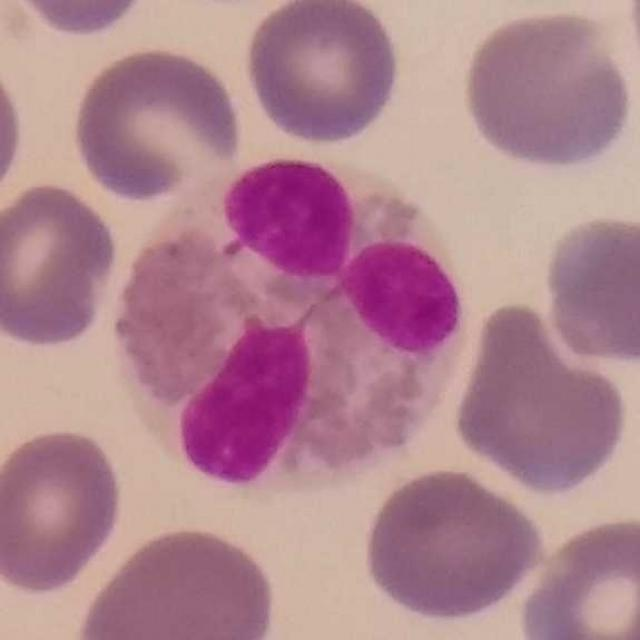Eosinophil: (109, 152, 471, 491)
RBC: (448, 295, 632, 500), (462, 4, 640, 177), (360, 463, 548, 626), (69, 42, 247, 205), (72, 520, 282, 639), (239, 0, 404, 148), (0, 423, 128, 597), (0, 177, 122, 353), (538, 207, 640, 369), (514, 511, 640, 640), (3, 0, 154, 41), (0, 46, 28, 219)
